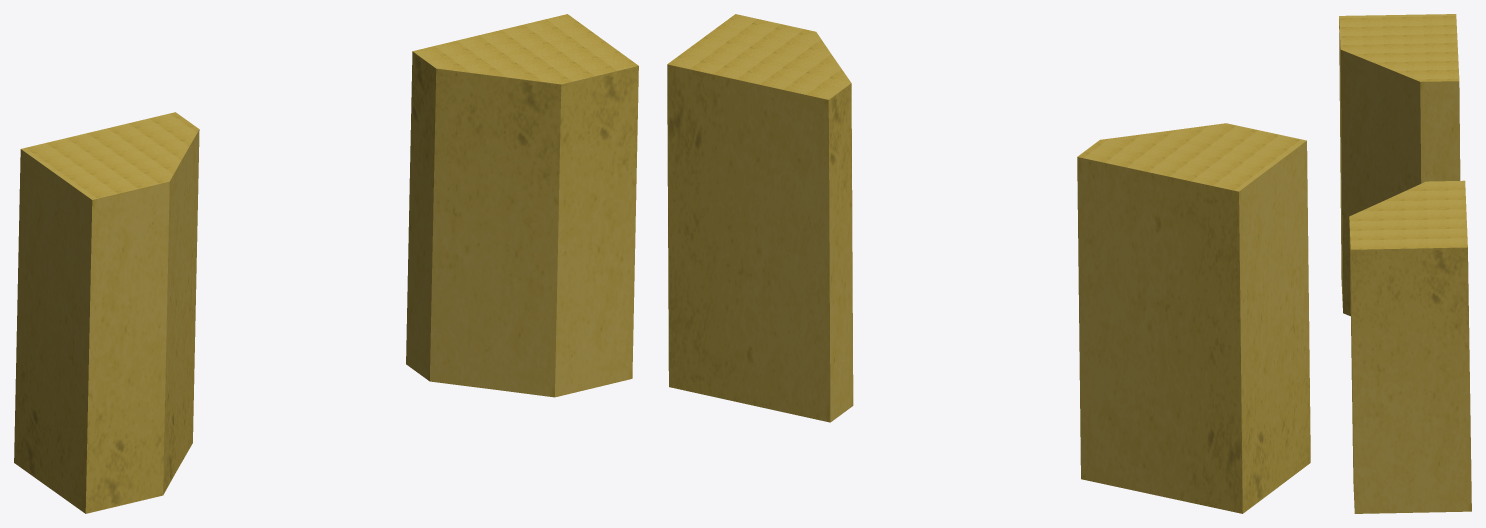
The model's file is woodenchocks.gltf.
3 renders of one model, left to right at view 1: azimuth 30°, elevation 25°; view 2: azimuth 150°, elevation 25°; view 3: azimuth 270°, elevation 25°, orthographic. The views are drawn at different scales.
Parts seen in each view (by area): view 1: WoodChockBack, WoodChockFront; view 2: WoodChockFront, WoodChockBack; view 3: WoodChockBack, WoodChockFront.
Part boxes in pixels (box(x1,y1,x2,y2)): WoodChockBack: box(406, 14, 638, 397); WoodChockFront: box(14, 112, 199, 513); WoodChockFront: box(1077, 123, 1310, 513); WoodChockBack: box(667, 14, 853, 422); WoodChockBack: box(1349, 180, 1471, 513); WoodChockFront: box(1339, 14, 1460, 316).
Bounding box in the file's own units: 0.6073 × 0.3317 × 0.147.
